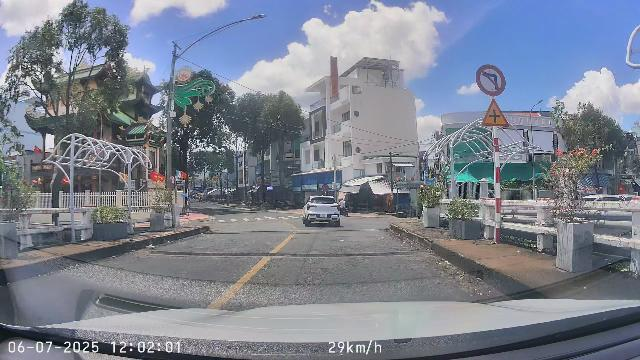123a-cam-re-trai: (475, 63, 506, 96)
